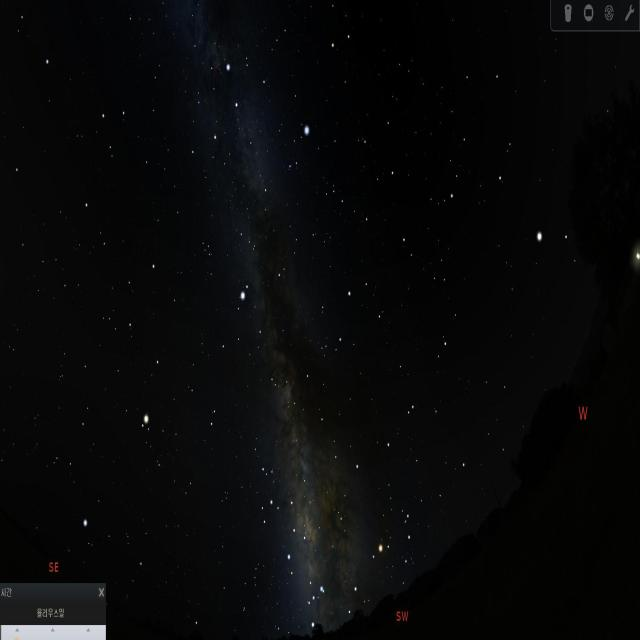aquila: (209, 242, 282, 370)
bootes: (437, 44, 574, 282)
cygnus: (206, 54, 273, 224)
lyra: (281, 127, 314, 178)
sagittarius: (252, 465, 313, 567)
scorpius: (305, 491, 422, 614)
